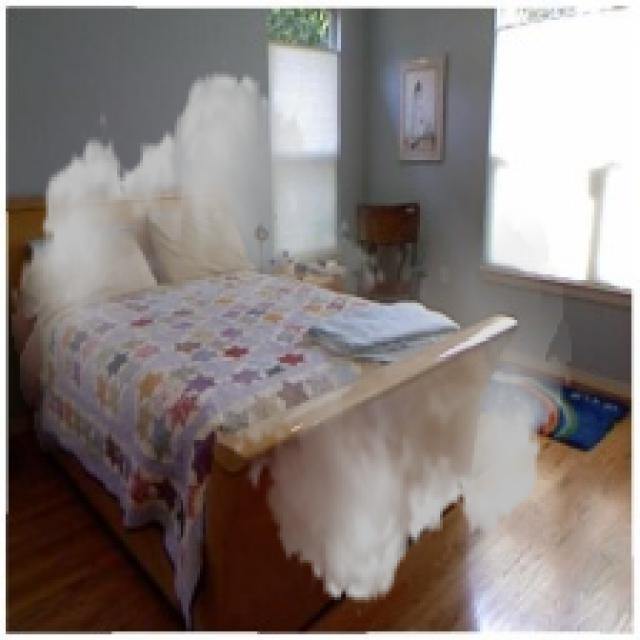Smoke: (11, 54, 572, 620)
